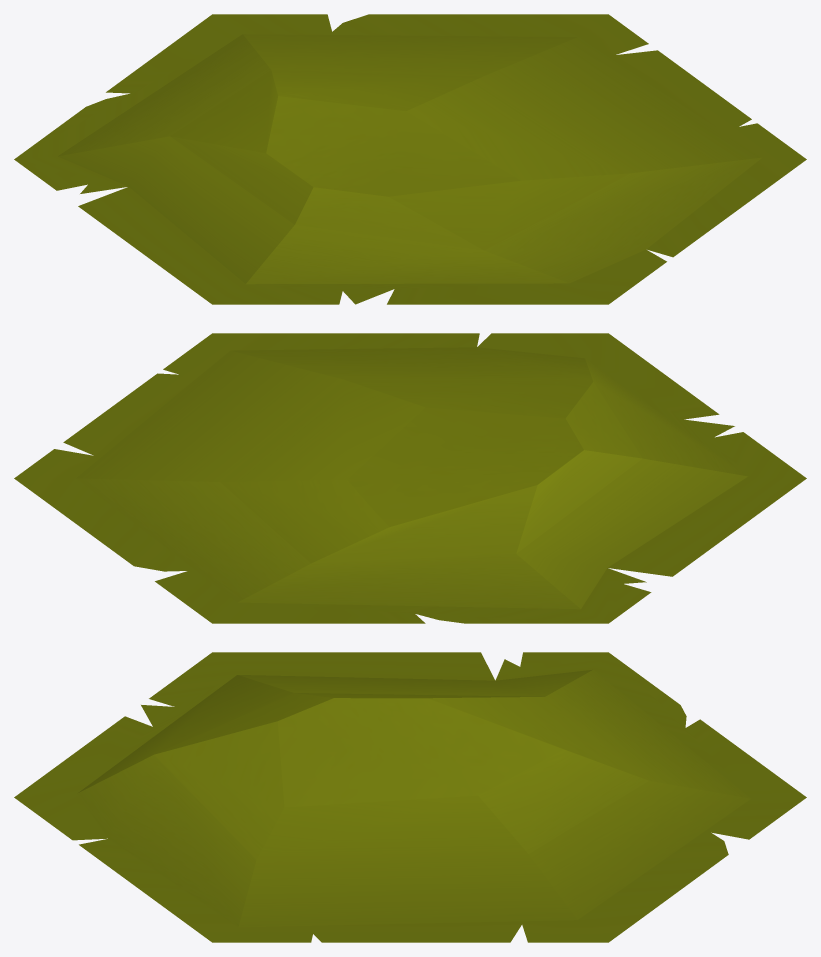
The model's file is grass.glb.
The picture shows the model from 3 angles, top to bottom: view 1: azimuth 30°, elevation 25°; view 2: azimuth 150°, elevation 25°; view 3: azimuth 270°, elevation 25°; orthographic projection.
Parts seen in each view (by area): view 1: plane; view 2: plane; view 3: plane.
Part boxes in pixels (x1=…): plane: x1=14, y1=14, x2=806, y2=304; plane: x1=14, y1=333, x2=806, y2=623; plane: x1=14, y1=652, x2=806, y2=942.
Bounding box in the file's own units: 1.73 × 0.0928 × 2.
1 material, 1 textured.
